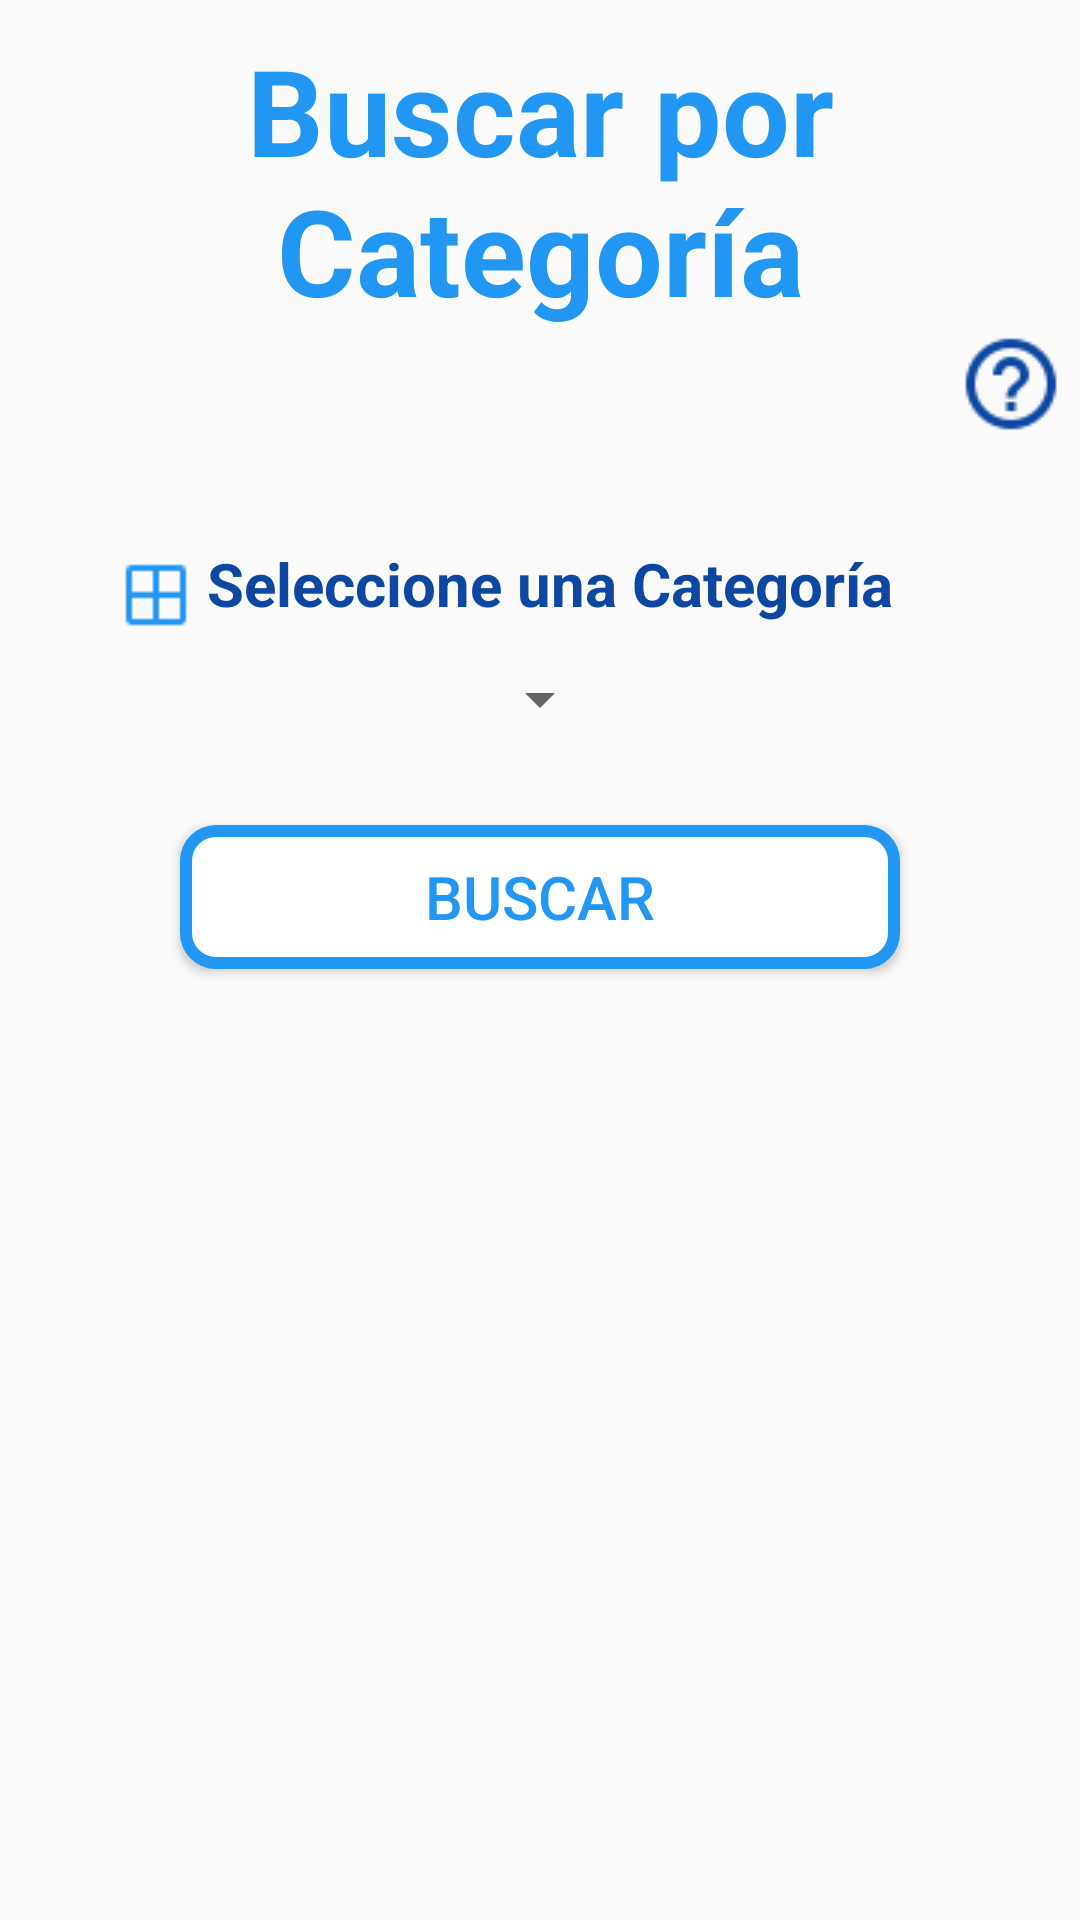

Named icons in this screenshot (1080w x 1920h) and their centers, (x=x, y=y):
iconocategoria: (x=156, y=595)
